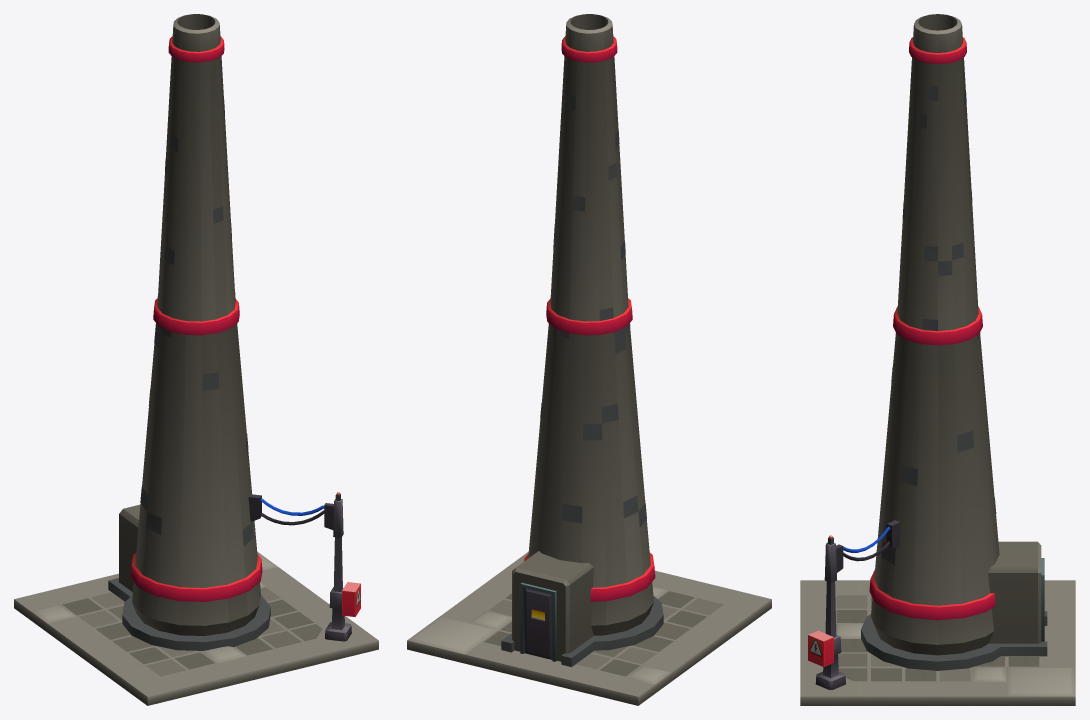
Rendered from Chimney_1A.fbx.
The picture shows the model from 3 angles, left to right: view 1: azimuth 30°, elevation 25°; view 2: azimuth 150°, elevation 25°; view 3: azimuth 270°, elevation 25°; orthographic projection. The views are drawn at different scales.
Parts seen in each view (by area): view 1: Chimney_1A; view 2: Chimney_1A; view 3: Chimney_1A.
Part boxes in pixels (<box>): Chimney_1A: <box>14,14,378,705</box>; Chimney_1A: <box>407,14,771,705</box>; Chimney_1A: <box>800,14,1075,705</box>.
Size of the model in its own units: 8 by 20.06 by 8.
